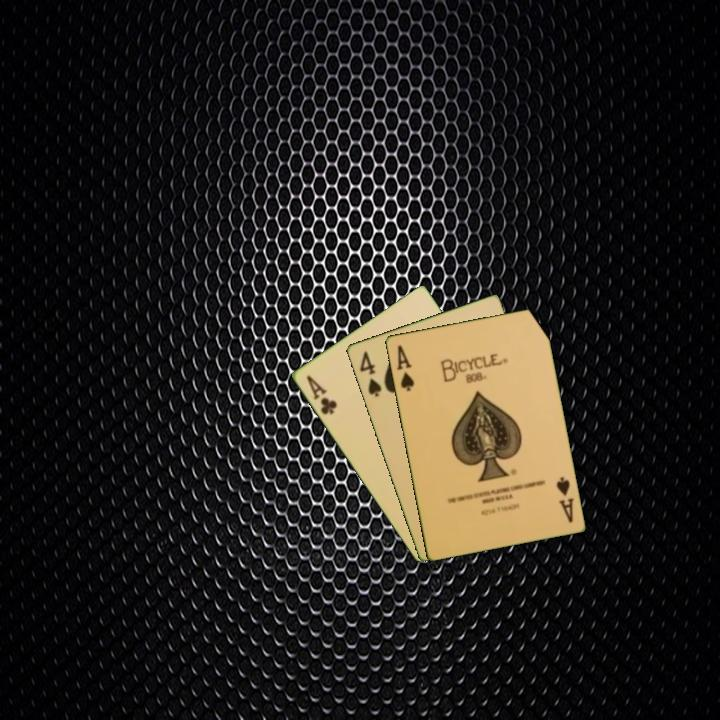4s: (356, 347, 384, 400)
Ac: (302, 371, 340, 418)
As: (392, 341, 417, 394), (552, 473, 576, 525)
